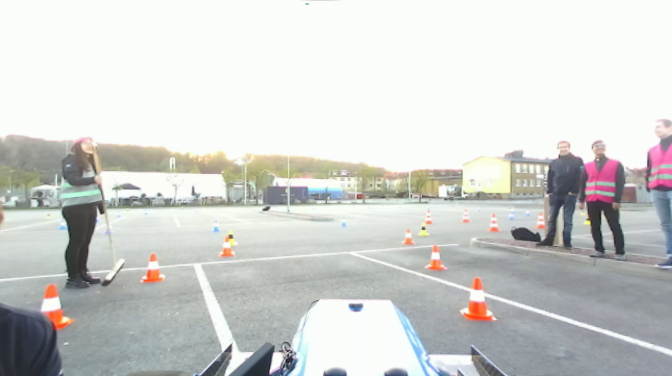blue: (211, 218, 221, 233), (339, 215, 348, 228)
orange: (38, 281, 76, 330), (459, 275, 496, 322), (139, 252, 166, 284), (424, 244, 448, 272), (218, 235, 236, 258), (400, 228, 415, 246)
orange2: (487, 213, 499, 233), (535, 209, 547, 229), (424, 207, 433, 224), (461, 208, 470, 222)
yellow: (225, 230, 238, 246), (417, 221, 429, 237)
